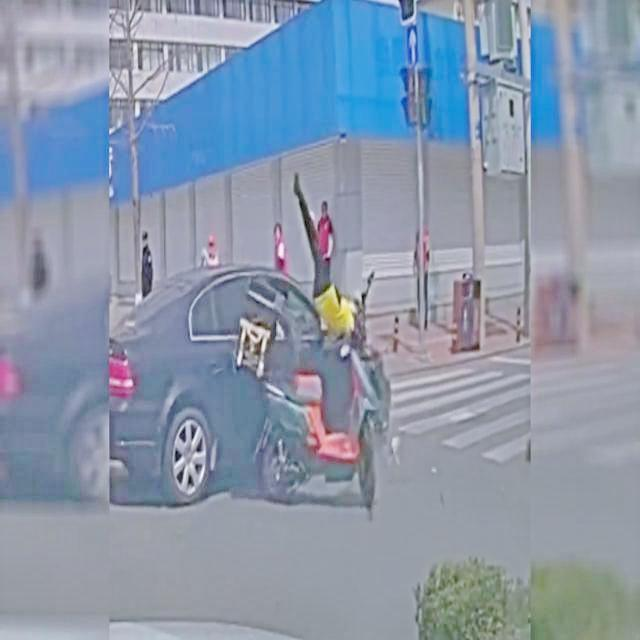Car: (118, 268, 394, 512)
Minor Accident: (120, 251, 409, 516)
Motor: (242, 260, 406, 513)
